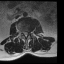CCS_normal: (25, 30, 26, 39)
LFS_severe_stenosis: (28, 29, 30, 34)
LLS_normal: (26, 30, 28, 36)
RFS_stenosis: (21, 29, 23, 35)
RLS_normal: (23, 30, 25, 36)
